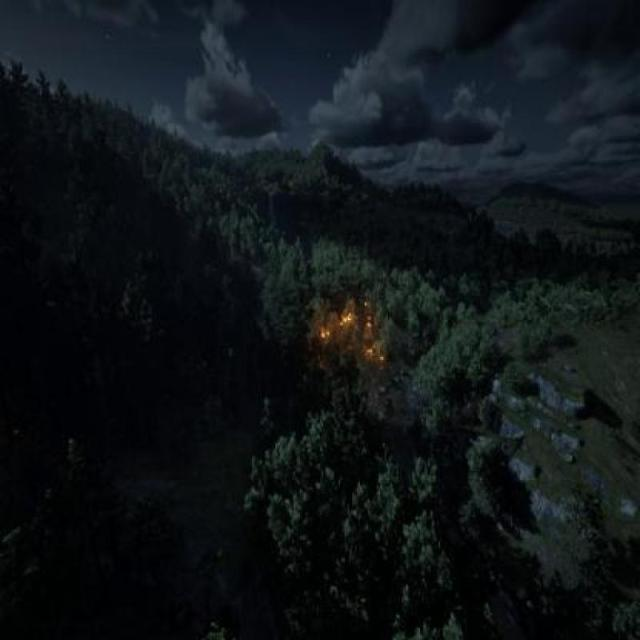Fire: (314, 289, 394, 377)
